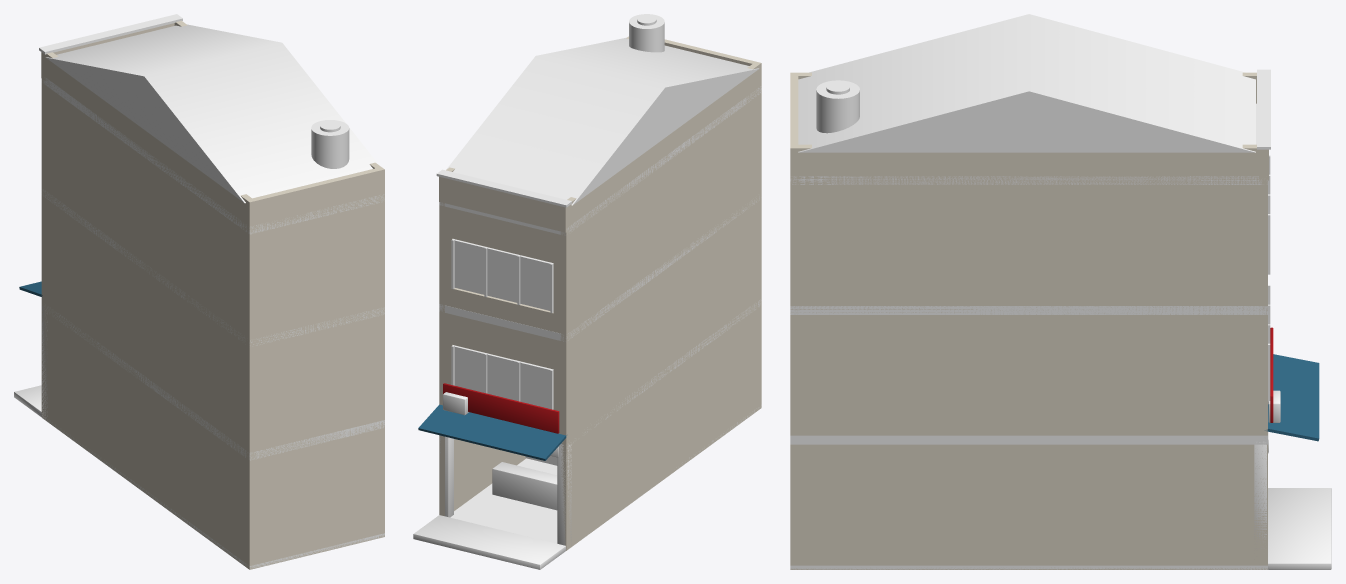
File: Ruko_B.fbx
3 renders of one model, left to right at view 1: azimuth 30°, elevation 25°; view 2: azimuth 150°, elevation 25°; view 3: azimuth 270°, elevation 25°, orthographic. The views are drawn at different scales.
Parts seen in each view (by area): view 1: Ruko_B_Mesh; view 2: Ruko_B_Mesh; view 3: Ruko_B_Mesh.
Part boxes in pixels (x1,y1,x2,y2): Ruko_B_Mesh: [14, 14, 384, 569]; Ruko_B_Mesh: [413, 14, 761, 569]; Ruko_B_Mesh: [790, 14, 1331, 569].
Size of the model in its own units: 4.6 by 13.3 by 13.6.
